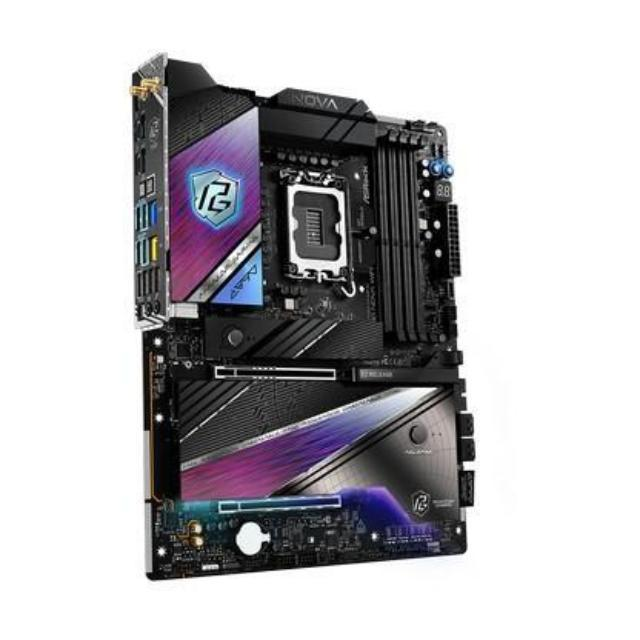Mainboard: (119, 34, 487, 592)
